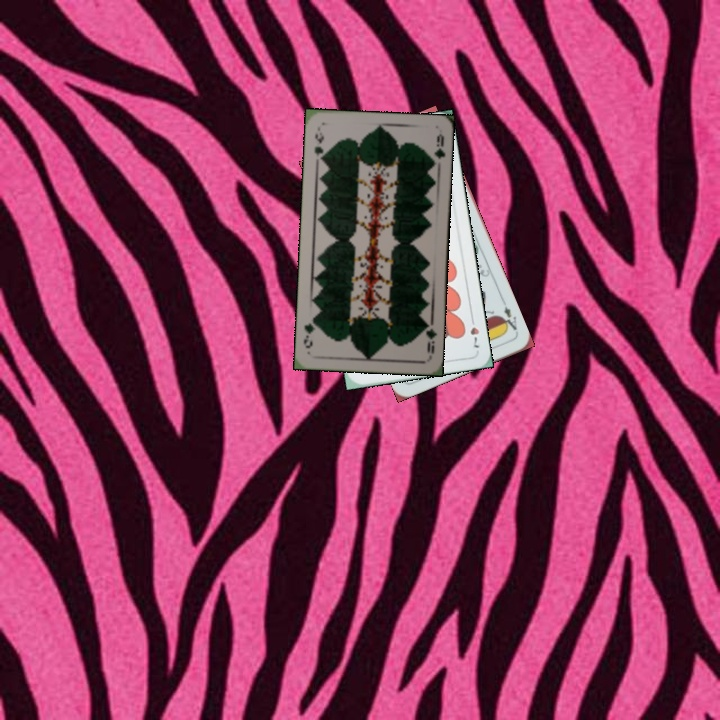EA: (496, 302, 521, 336)
G9: (420, 318, 439, 359), (310, 124, 327, 165)
H7: (466, 312, 482, 352)
